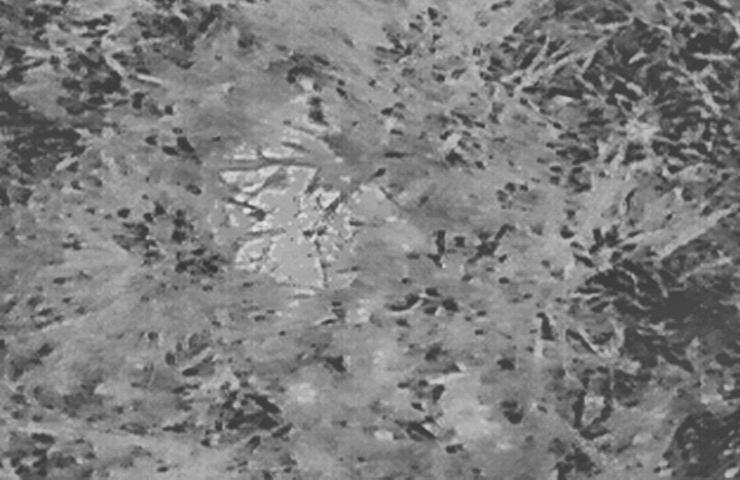landmines: (211, 117, 388, 301)
